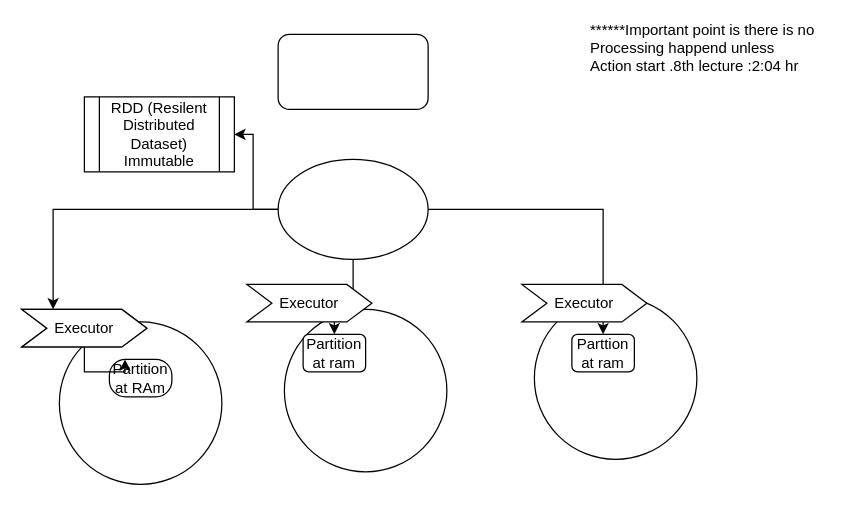
Image size: 844x506. Some labels were removed from this diagram. Here are the shapes that lost their labels. From the top down, the box of each, then its label:
(277, 33, 428, 109): MAster-SCResource Manager
(277, 158, 428, 259): In Ram of MAster Node
